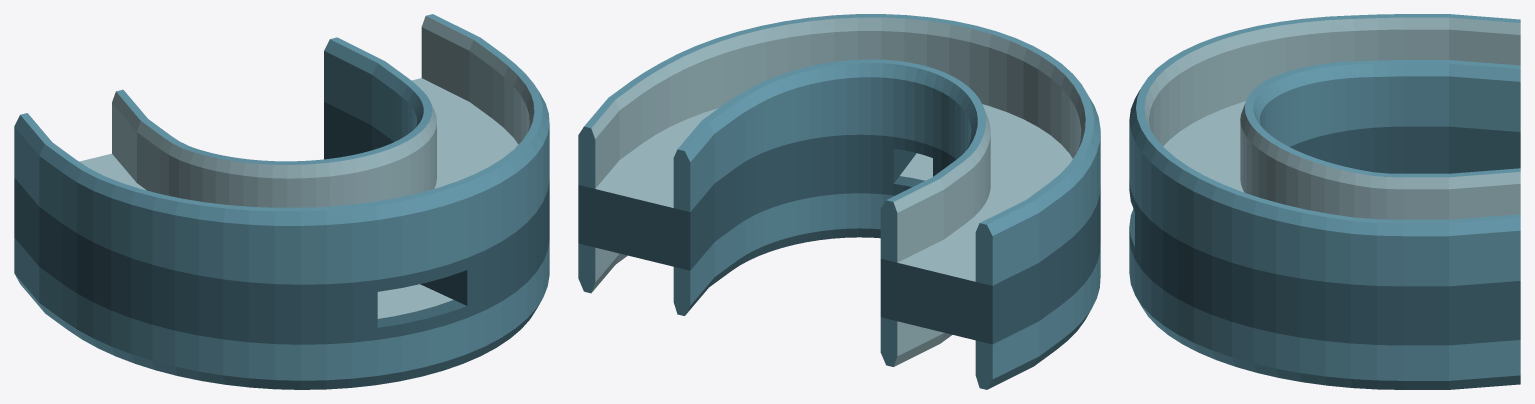
The picture shows the model from 3 angles, left to right: view 1: azimuth 30°, elevation 25°; view 2: azimuth 150°, elevation 25°; view 3: azimuth 270°, elevation 25°; orthographic projection. The views are drawn at different scales.
Parts seen in each view (by area): view 1: WholeDoubleSidedUChannelAndFrontThroughAperture; view 2: WholeDoubleSidedUChannelAndFrontThroughAperture; view 3: WholeDoubleSidedUChannelAndFrontThroughAperture.
Boxes of the visible parts, left/top/right/bottom form: WholeDoubleSidedUChannelAndFrontThroughAperture: left=14, top=14, right=549, bottom=389; WholeDoubleSidedUChannelAndFrontThroughAperture: left=578, top=14, right=1100, bottom=389; WholeDoubleSidedUChannelAndFrontThroughAperture: left=1129, top=14, right=1520, bottom=389.
Size of the model in its own units: 0.078 by 0.03 by 0.06.
